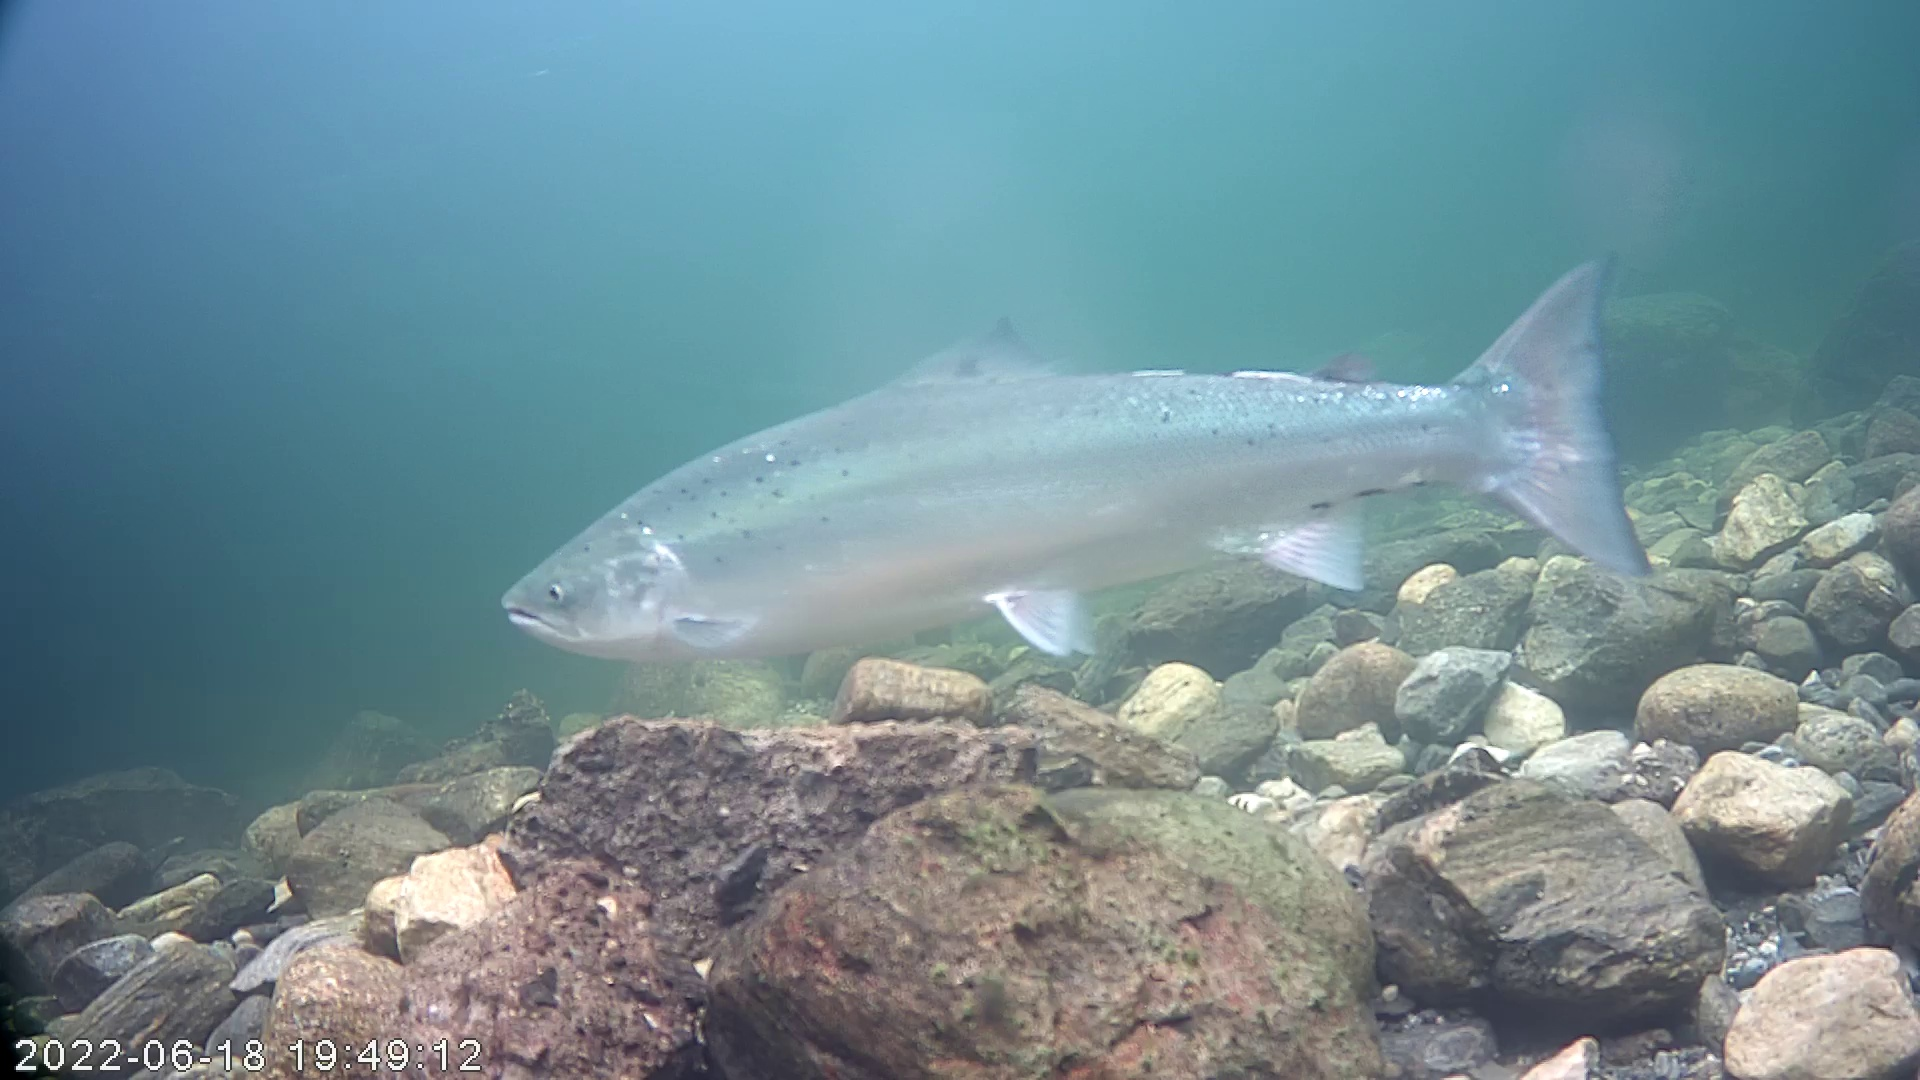salmon: (498, 255, 1654, 662)
